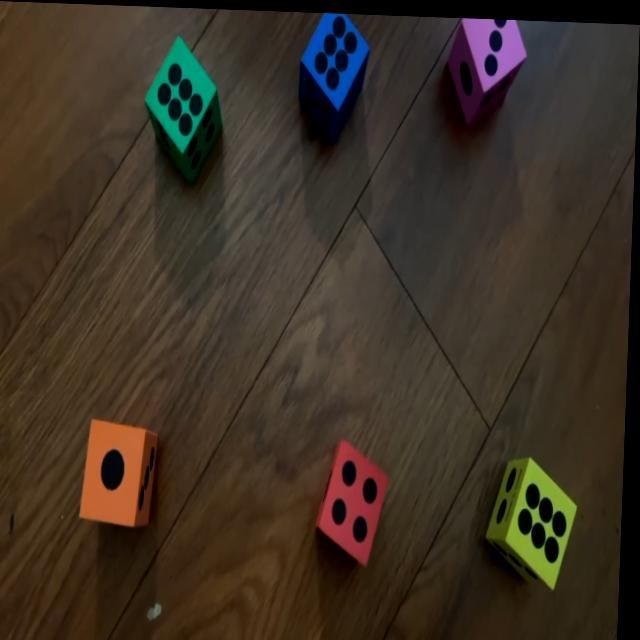blue_block: (300, 9, 371, 136)
red_block: (318, 431, 393, 563)
